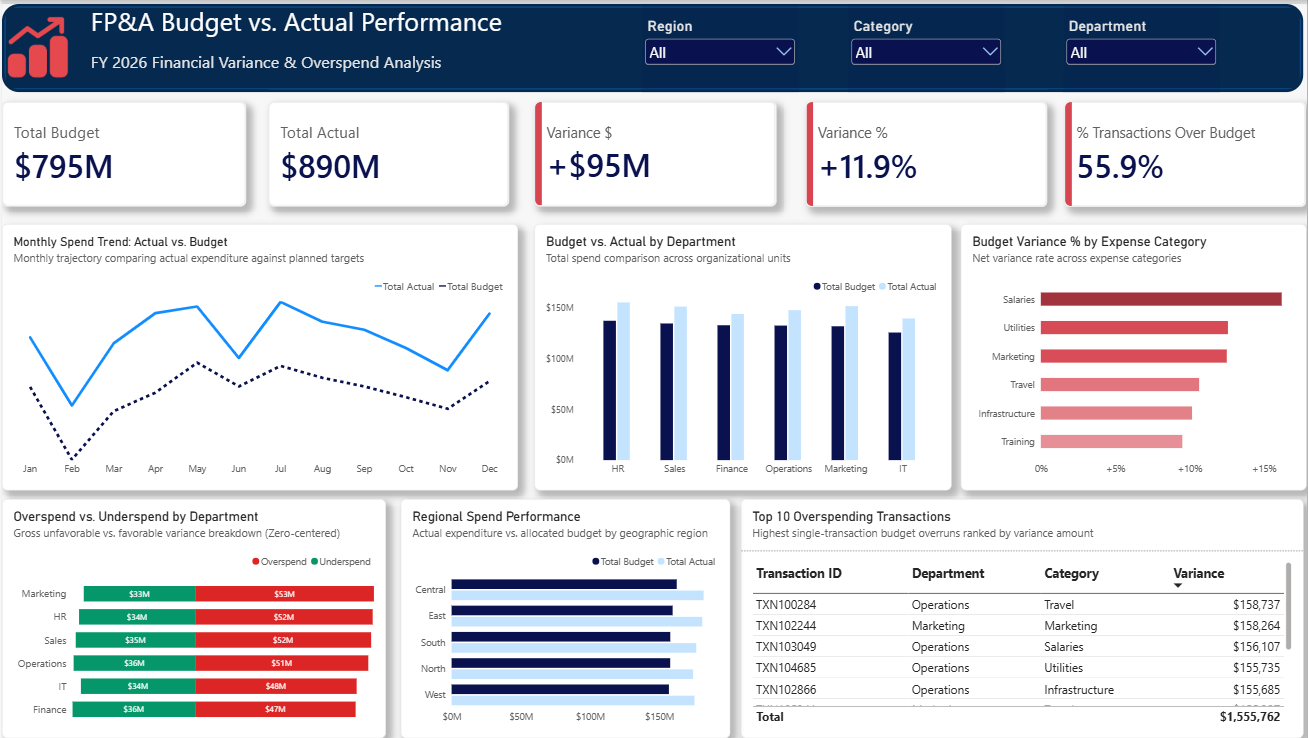

What the dashboard file says about the page in this screenshot:
{"tool":"powerbi","page":{"name":"Budget vs. Actual Variance Analysis","canvas":[1920,1080],"ordinal":0},"visuals":[{"type":"cardVisual","fields":{"Data":["data.Total Budget"]},"box":[0,143.4,359.5,154.3],"z":0},{"type":"cardVisual","fields":{"Data":["data.Total Actual"]},"box":[392.2,143.4,354.1,154.3],"z":1000},{"type":"cardVisual","fields":{"Data":["data.Variance %"]},"box":[1182.1,143.4,355,155],"z":2000},{"type":"cardVisual","fields":{"Data":["data.% Transactions Over Budget"]},"box":[1563.4,143.4,355,155],"z":4000},{"type":"cardVisual","fields":{"Data":["data.Variance"]},"box":[782.6,143.4,355.9,154.3],"z":4500},{"type":"clusteredColumnChart","title":"Budget vs. Actual by Department","fields":{"Category":["data.Department"],"Y":["data.Total Budget","data.Total Actual"]},"box":[782.6,323.2,613.7,392.2],"z":5000},{"type":"lineChart","title":"Monthly Spend Trend: Actual vs. Budget","fields":{"Category":["data.Year","data.Month Short"],"Y":["data.Total Actual","data.Total Budget"]},"box":[0,323.2,759,392.2],"z":6000},{"type":"clusteredBarChart","title":"Budget Variance % by Expense Category","fields":{"Category":["data.Category"],"Y":["data.Variance %"]},"box":[1410.8,323.2,508.4,392.2],"z":7000},{"type":"barChart","title":"Overspend vs. Underspend by Department","fields":{"Category":["data.Department"],"Y":["data.Total Overspend","data.Underspend Negative"]},"box":[0,728.1,564.7,352.3],"z":8000},{"type":"tableEx","title":"Top 10 Overspending Transactions","fields":{"Values":["data.Transaction_ID","data.Department","data.Category","data.Variance"]},"box":[1087.6,728.1,828,352.3],"z":9000},{"type":"clusteredBarChart","title":"Regional Spend Performance","fields":{"Category":["data.Region"],"Y":["data.Total Budget","data.Total Actual"]},"box":[586.5,728.1,484.8,352.3],"z":10000},{"type":"shape","box":[0,0,1914.6,129.5],"z":11000},{"type":"textbox","box":[130.7,0,615.5,112.6],"z":12000},{"type":"slicer","fields":{"Values":["data.Region"]},"box":[941.6,0,230,130],"z":13000},{"type":"slicer","fields":{"Values":["data.Category"]},"box":[1245.1,0,230,130],"z":14000},{"type":"slicer","fields":{"Values":["data.Department"]},"box":[1561.4,0,230,130],"z":15000},{"type":"image","box":[0,0,105.3,128.9],"z":16000}]}

Visuals, with their boxes in screenshot pixels (x1, y1, x2, y2), scaled from the page's 1920x1080 canvas onto the 1308x738 screenshot:
cardVisual - data.Total Budget: [0,98,245,203]
cardVisual - data.Total Actual: [267,98,508,203]
cardVisual - data.Variance %: [805,98,1047,204]
cardVisual - data.% Transactions Over Budget: [1065,98,1307,204]
cardVisual - data.Variance: [533,98,776,203]
"Budget vs. Actual by Department" clusteredColumnChart: [533,221,951,489]
"Monthly Spend Trend: Actual vs. Budget" lineChart: [0,221,517,489]
"Budget Variance % by Expense Category" clusteredBarChart: [961,221,1307,489]
"Overspend vs. Underspend by Department" barChart: [0,498,385,737]
"Top 10 Overspending Transactions" tableEx: [741,498,1305,737]
"Regional Spend Performance" clusteredBarChart: [400,498,730,737]
shape: [0,0,1304,88]
textbox: [89,0,508,77]
slicer - data.Region: [641,0,798,89]
slicer - data.Category: [848,0,1005,89]
slicer - data.Department: [1064,0,1220,89]
image: [0,0,72,88]
